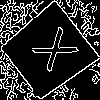X: (23, 26, 79, 80)
